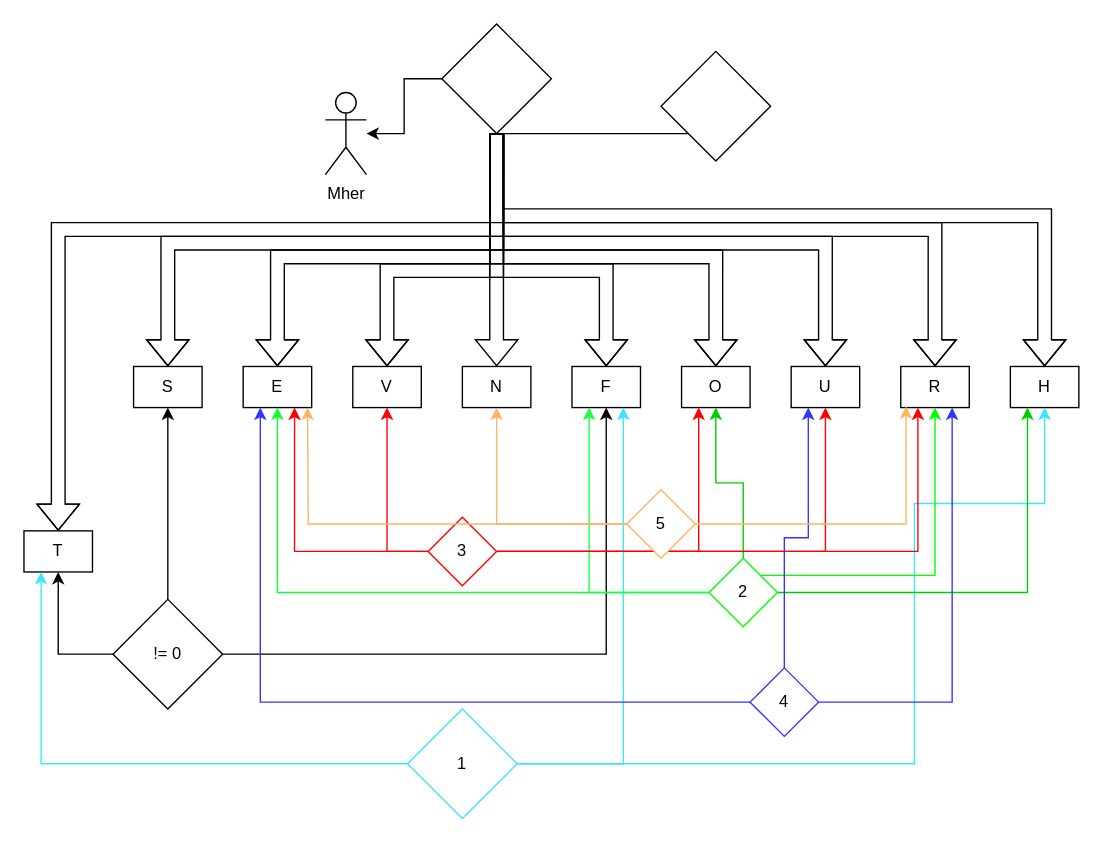
The diagram is 1103 pixels wide and 843 high, and some of its shapes have lost their labels. Each missing label, with the box of its shape:
alldif: (660, 50, 771, 161)
time: (440, 23, 551, 134)
